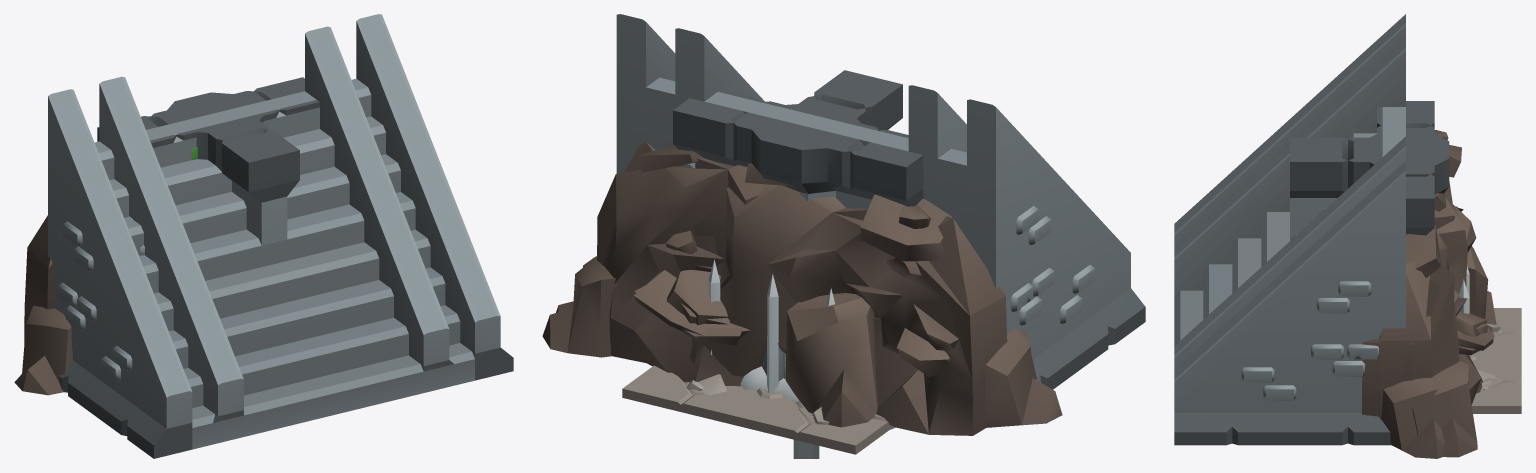
The model's file is props.glb.
3 views of the same model, side by side, from view 1: azimuth 30°, elevation 25°; view 2: azimuth 150°, elevation 25°; view 3: azimuth 270°, elevation 25° (orthographic). The views are drawn at different scales.
Parts seen in each view (by area): view 1: stairs_wide, stairs, wall_corner, rubble_large, wall_arched, wall_pillar; view 2: rubble_large, stairs_wide, rubble_half, stairs, floor_tile_large_rocks, wall_arched, wall_corner, wall_pillar, wall, wall_half, pillar, spikes (+4 smaller); view 3: stairs_wide, stairs, rubble_half, rubble_large, wall_corner, floor_tile_large_rocks, wall_arched, pillar_decorated, wall, wall_pillar, floor_dirt_large.
Part boxes in pixels (<box>): stairs_wide: <box>48,14,513,458</box>; stairs: <box>99,26,453,422</box>; wall_corner: <box>173,118,299,245</box>; rubble_large: <box>14,215,72,395</box>; wall_arched: <box>97,77,319,147</box>; wall_pillar: <box>155,92,263,159</box>; rubble_large: <box>556,163,1062,435</box>; stairs_wide: <box>616,14,1145,389</box>; rubble_half: <box>542,141,764,386</box>; stairs: <box>675,28,966,158</box>; floor_tile_large_rocks: <box>622,365,892,454</box>; wall_arched: <box>673,89,923,205</box>; wall_corner: <box>795,70,909,208</box>; wall_pillar: <box>725,104,894,201</box>; wall: <box>719,111,923,206</box>; wall_half: <box>673,109,817,166</box>; pillar: <box>754,107,853,186</box>; spikes: <box>708,259,834,392</box>; stairs_wide: <box>1174,14,1405,445</box>; stairs: <box>1174,38,1405,369</box>; rubble_half: <box>1379,207,1493,457</box>; rubble_large: <box>1362,130,1496,458</box>; wall_corner: <box>1290,123,1425,239</box>; floor_tile_large_rocks: <box>1471,308,1521,407</box>; wall_arched: <box>1377,101,1434,235</box>; pillar_decorated: <box>1362,138,1449,168</box>; wall: <box>1406,101,1434,235</box>; wall_pillar: <box>1362,134,1449,194</box>; floor_dirt_large: <box>1472,378,1521,413</box>.
Size of the model in its own units: 8.13 by 6.1 by 6.
Materials: 2 (2 with a texture image).
